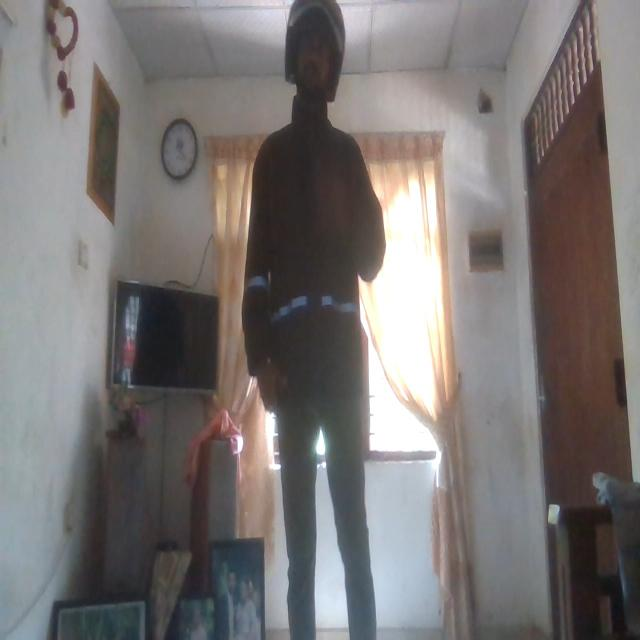Helmet_Wearer: (282, 2, 346, 108)
Jacket_Wearer: (243, 107, 385, 444)
Person: (244, 1, 390, 640)
